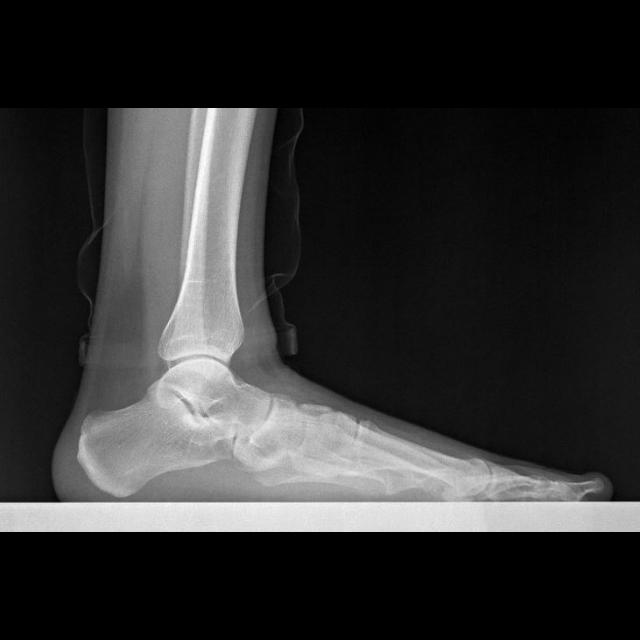a: (77, 386, 240, 500)
b: (246, 392, 304, 460)
c: (352, 420, 490, 495)
